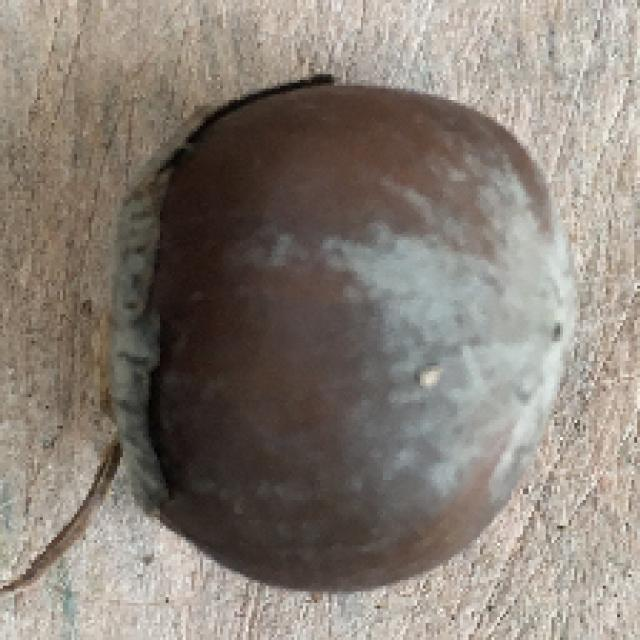damagedHazelnut: (115, 78, 578, 586)
